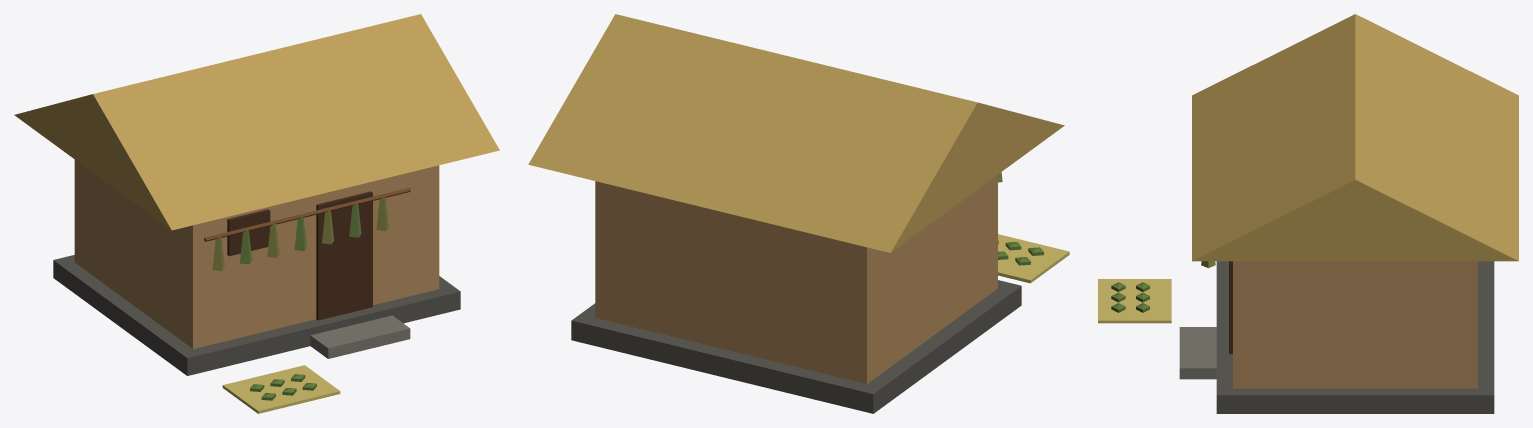
Rendered from a2v_house_herb.glb.
3 renders of one model, left to right at view 1: azimuth 30°, elevation 25°; view 2: azimuth 150°, elevation 25°; view 3: azimuth 270°, elevation 25°, orthographic. The views are drawn at different scales.
Parts seen in each view (by area): view 1: a2v_house_herb; view 2: a2v_house_herb; view 3: a2v_house_herb.
Boxes of the visible parts, bbox=[...] form: a2v_house_herb: bbox=[14, 14, 499, 413]; a2v_house_herb: bbox=[528, 14, 1069, 413]; a2v_house_herb: bbox=[1098, 14, 1518, 413].
Size of the model in its own units: 4.8 by 3.35 by 5.15.
